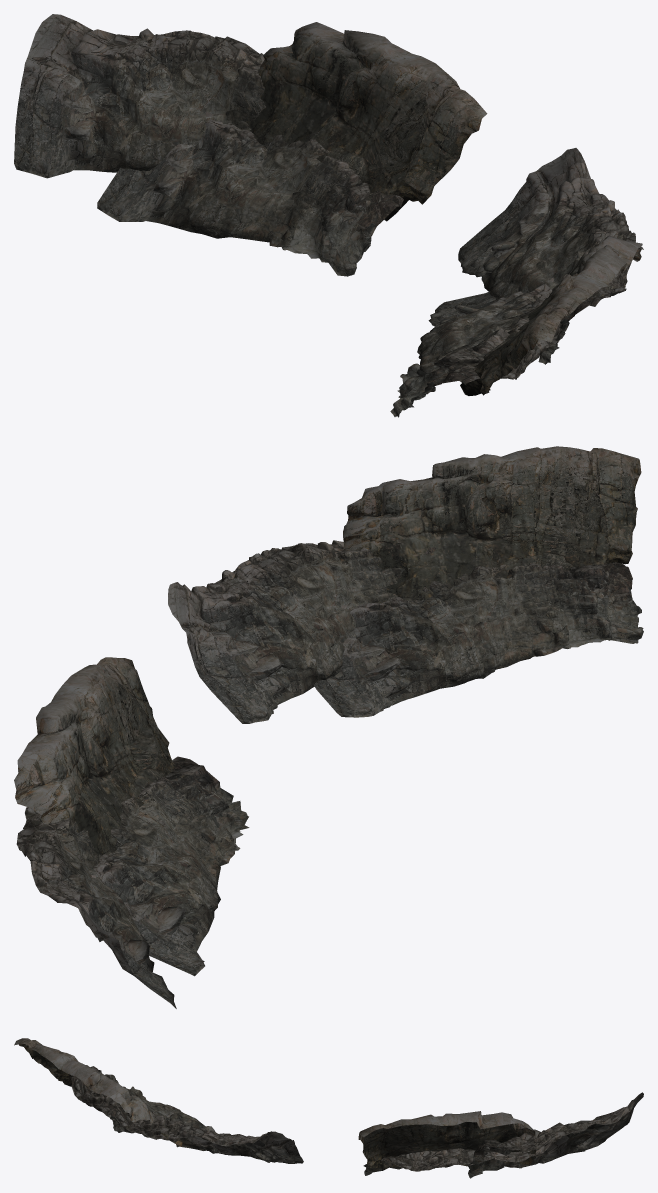
File: decimate test.fbx
3 views of the same model, one above another, from view 1: azimuth 30°, elevation 25°; view 2: azimuth 150°, elevation 25°; view 3: azimuth 270°, elevation 25° (orthographic). The views are drawn at different scales.
Visible parts, largest first — view 1: Rock1.005, Rock1.003, Rock1.004, Rock6.002; view 2: Rock1.005, Rock6.002, Rock1.004, Rock1.003; view 3: Rock1.005, Rock1.003, Rock6.002, Rock1.004.
Part boxes in pixels (<box>): Rock1.005: <box>14,14,487,276</box>; Rock1.003: <box>458,148,635,364</box>; Rock1.004: <box>390,277,560,417</box>; Rock6.002: <box>460,235,643,395</box>; Rock1.005: <box>14,657,249,1008</box>; Rock6.002: <box>343,446,641,602</box>; Rock1.004: <box>313,562,643,717</box>; Rock1.003: <box>168,540,436,723</box>; Rock1.005: <box>358,1092,643,1178</box>; Rock1.003: <box>103,1105,303,1163</box>; Rock6.002: <box>14,1038,182,1146</box>; Rock1.004: <box>70,1066,238,1154</box>.
Bounding box in the file's own units: 4546 × 2820 × 12679.
